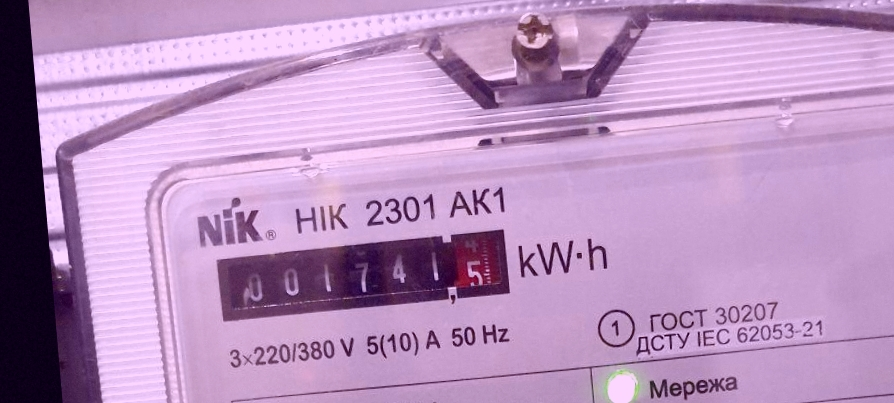0: (280, 263, 302, 298), (244, 269, 266, 303)
1: (316, 258, 336, 295), (425, 248, 443, 284)
4: (387, 250, 410, 286), (462, 236, 480, 255)
5: (463, 255, 485, 288)
7: (352, 258, 372, 294)
screen: (209, 222, 518, 328)
